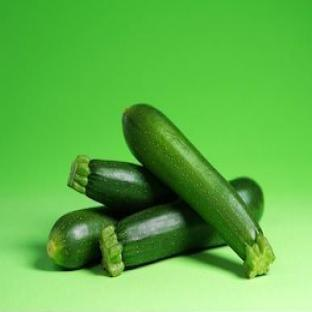Zucchini: (123, 105, 274, 277), (100, 200, 224, 275), (68, 155, 177, 213), (47, 207, 120, 268)
